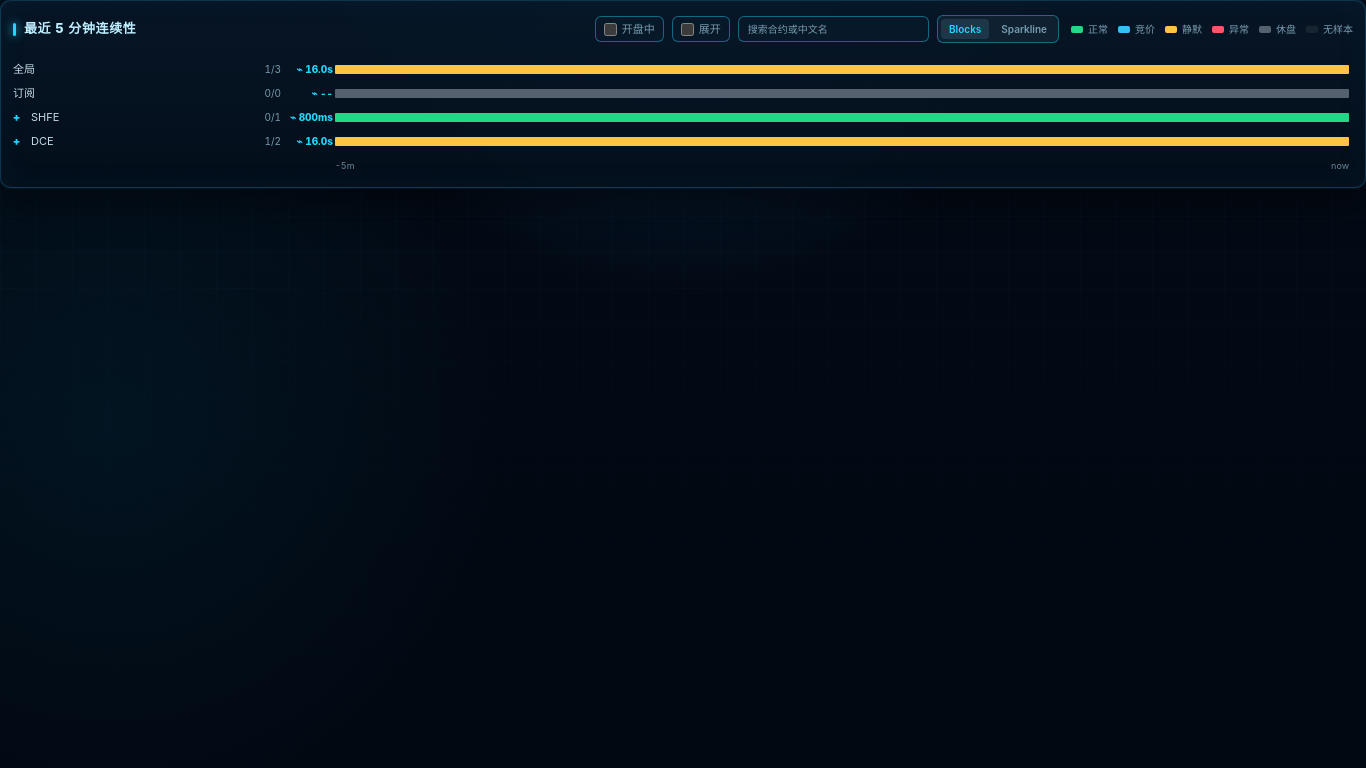
Test case: ContinuityTimeline › keeps flat symbols in stable contract-name order
Click the checkbox labelled "展开" at (687, 29), box [681, 22, 694, 36]
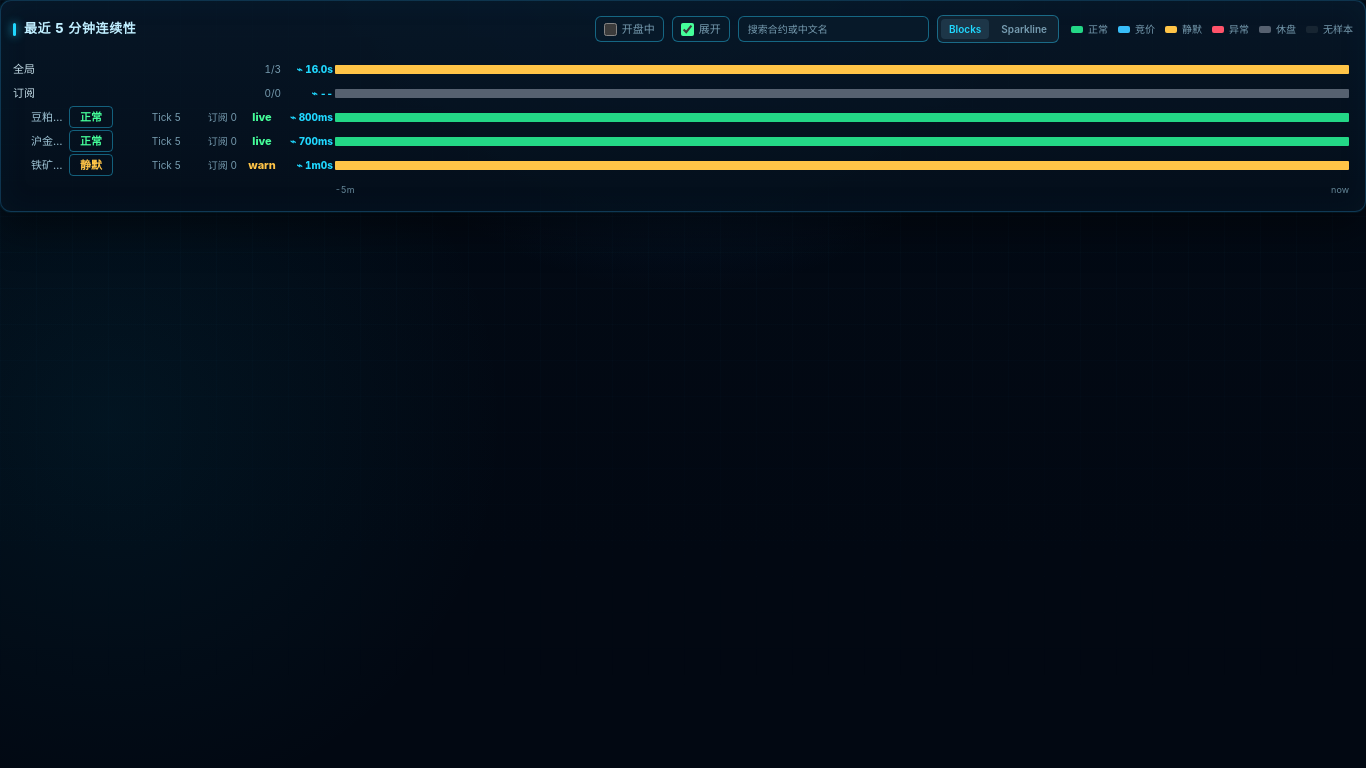
Now the element with test id "timeline-symbol-row" shows "豆粕2609", box [31, 110, 82, 124]
Now the element with test id "timeline-symbol-row" shows "沪金2602", box [31, 134, 82, 148]
Now the element with test id "timeline-symbol-row" shows "铁矿2609", box [31, 158, 82, 172]
